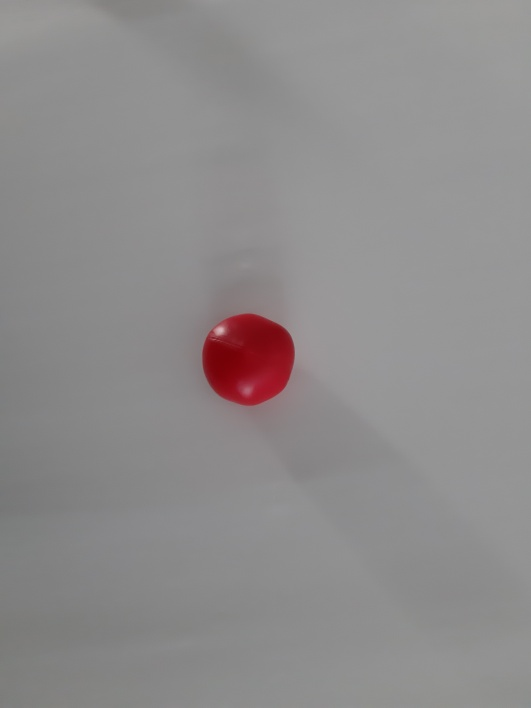tomato: (189, 307, 304, 414)
